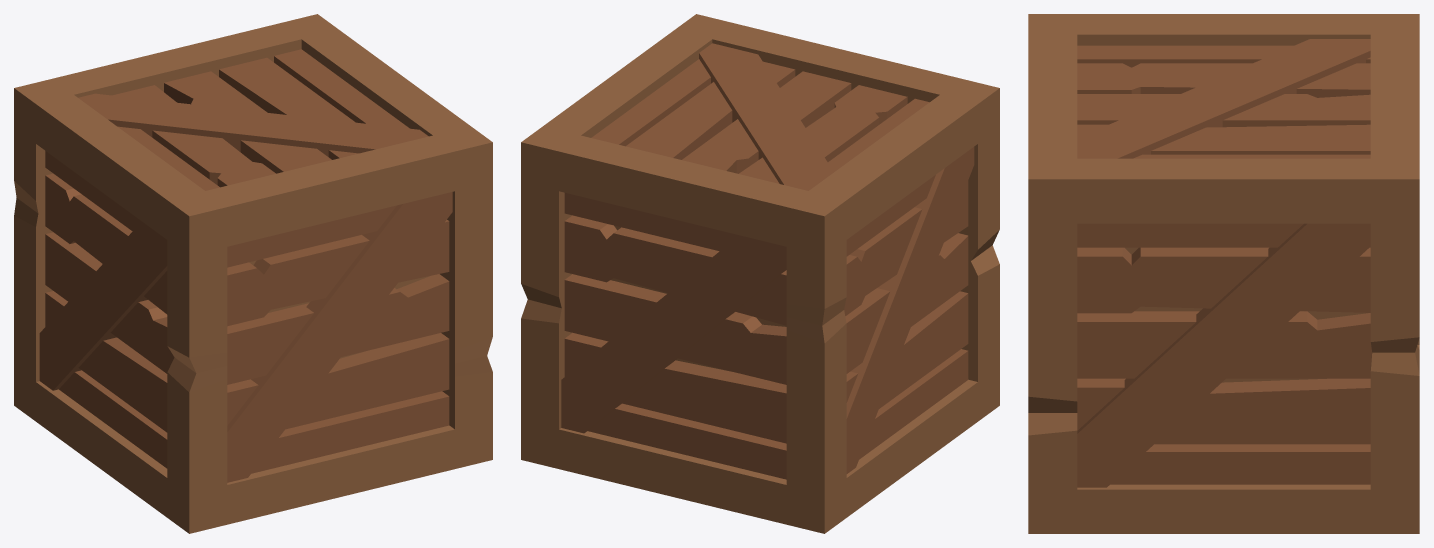
The model's file is crate.glb.
3 views of the same model, side by side, from view 1: azimuth 30°, elevation 25°; view 2: azimuth 150°, elevation 25°; view 3: azimuth 270°, elevation 25° (orthographic). The views are drawn at different scales.
Visible parts, largest first — view 1: Crate; view 2: Crate; view 3: Crate.
Part boxes in pixels (bbox=[...]): Crate: bbox=[14, 14, 492, 533]; Crate: bbox=[521, 14, 999, 533]; Crate: bbox=[1028, 14, 1419, 533].
Bounding box in the file's own units: 1 × 1 × 1.
